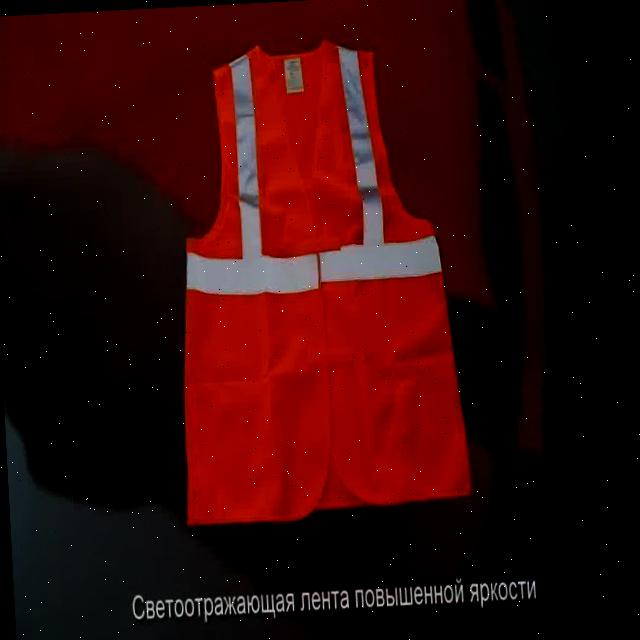vest: (162, 28, 476, 532)
